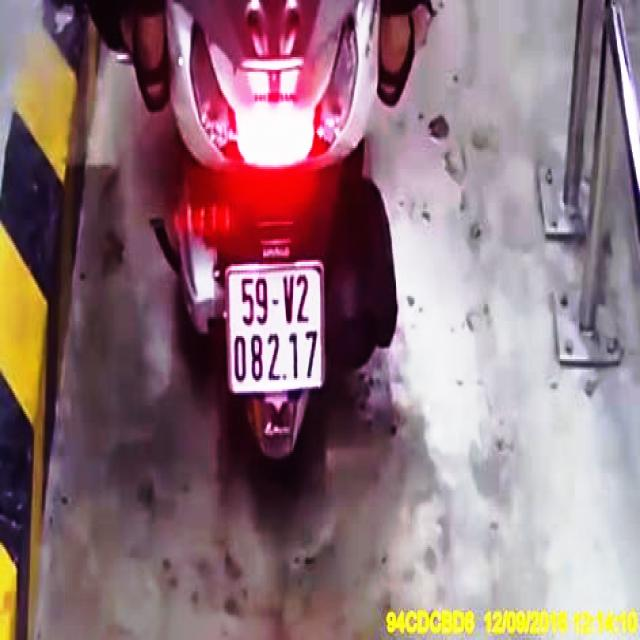license_plate: (227, 256, 327, 392)
